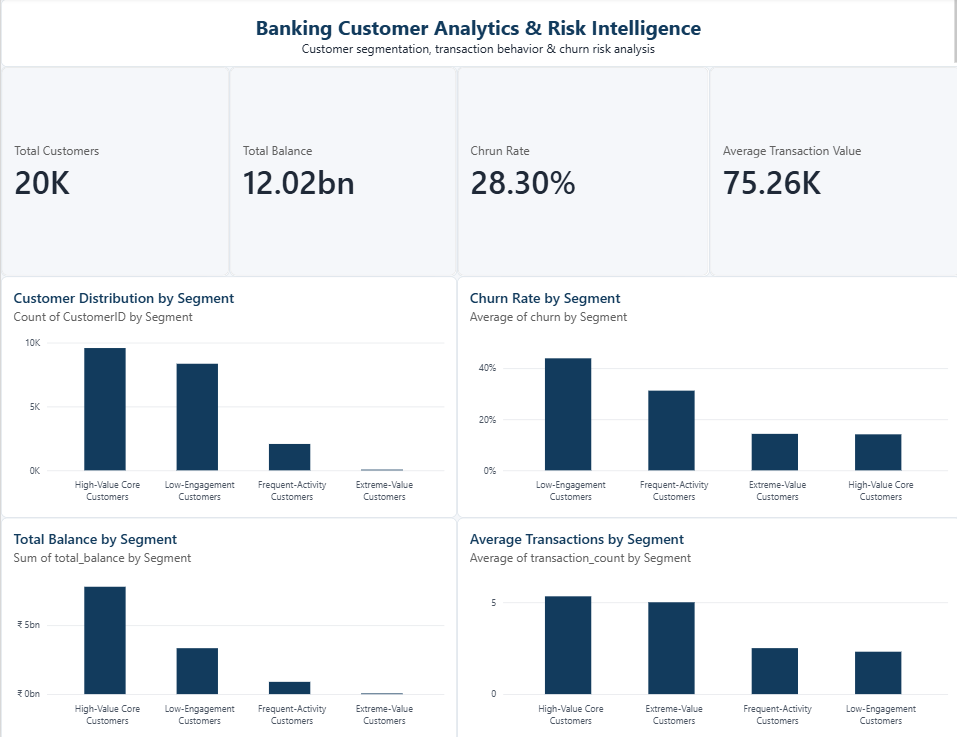

Layout of this report page (visuals, bound fields, positions):
{"tool":"powerbi","page":{"name":"Page 1","canvas":[1280,990],"ordinal":0},"visuals":[{"type":"cardVisual","fields":{"Data":["CountNonNull(powerbi_master.CustomerID)"]},"box":[0,90,305,280],"z":0},{"type":"cardVisual","fields":{"Data":["Avg(powerbi_master.churn)"]},"box":[608.3,90,336.7,280],"z":1000},{"type":"cardVisual","fields":{"Data":["Avg(powerbi_master.average_transaction_value)"]},"box":[945,90,335,280],"z":2000},{"type":"clusteredColumnChart","title":"Customer Distribution by Segment","fields":{"Category":["powerbi_master.Segment"],"Y":["CountNonNull(powerbi_master.CustomerID)"]},"box":[0,370,608.3,321.7],"z":3000},{"type":"clusteredColumnChart","title":"Churn Rate by Segment","fields":{"Category":["powerbi_master.Segment"],"Y":["Avg(powerbi_master.churn)"]},"box":[608.3,370,671.7,321.7],"z":4000},{"type":"clusteredColumnChart","title":"Total Balance by Segment","fields":{"Category":["powerbi_master.Segment"],"Y":["Sum(powerbi_master.total_balance)"]},"box":[0,691.7,608.3,298.3],"z":5000},{"type":"clusteredColumnChart","title":"Average Transactions by Segment","fields":{"Category":["powerbi_master.Segment"],"Y":["Avg(powerbi_master.transaction_count)"]},"box":[608.3,691.7,671.7,298.3],"z":6000},{"type":"cardVisual","fields":{"Data":["Sum(powerbi_master.total_balance)"]},"box":[305,90,303.3,280],"z":7000},{"type":"textbox","box":[0,0,1280,107.5],"z":7001}]}

Visuals, with their boxes in screenshot pixels (x1, y1, x2, y2), scaled from the page's 1280x990 canvas onto the 957x737 screenshot:
cardVisual - CountNonNull(powerbi_master.CustomerID): x1=0 y1=67 x2=228 y2=275
cardVisual - Avg(powerbi_master.churn): x1=455 y1=67 x2=707 y2=275
cardVisual - Avg(powerbi_master.average_transaction_value): x1=707 y1=67 x2=956 y2=275
"Customer Distribution by Segment" clusteredColumnChart: x1=0 y1=275 x2=455 y2=515
"Churn Rate by Segment" clusteredColumnChart: x1=455 y1=275 x2=956 y2=515
"Total Balance by Segment" clusteredColumnChart: x1=0 y1=515 x2=455 y2=736
"Average Transactions by Segment" clusteredColumnChart: x1=455 y1=515 x2=956 y2=736
cardVisual - Sum(powerbi_master.total_balance): x1=228 y1=67 x2=455 y2=275
textbox: x1=0 y1=0 x2=956 y2=80
